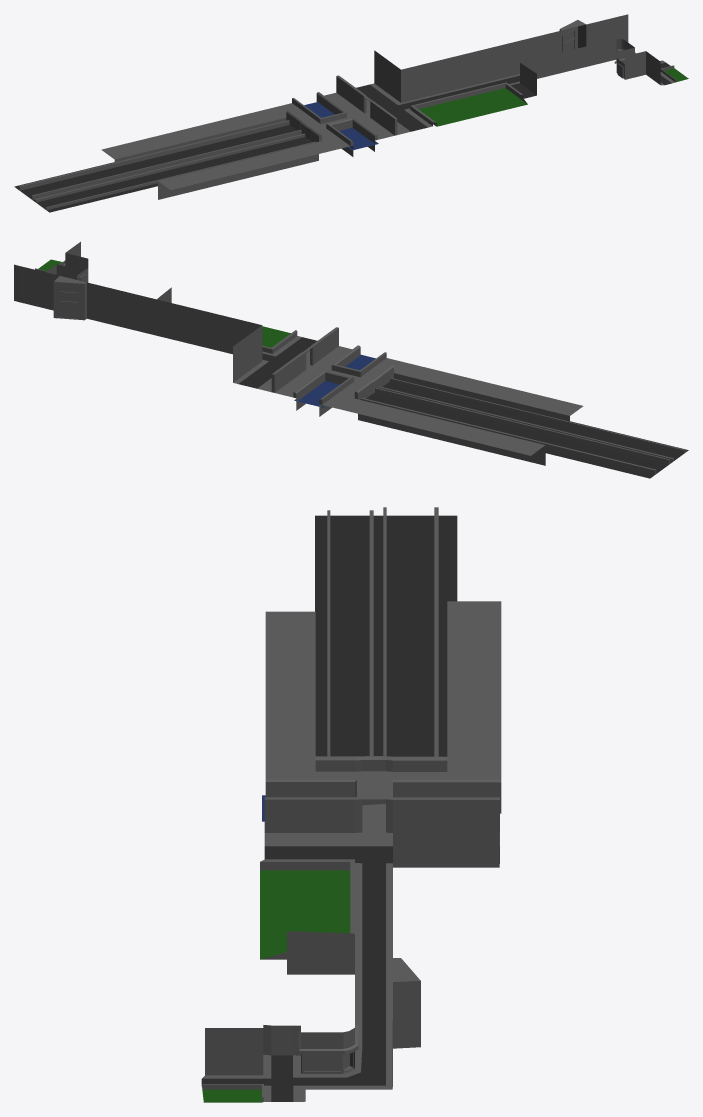
File: level3.fbx
The picture shows the model from 3 angles, top to bottom: view 1: azimuth 30°, elevation 25°; view 2: azimuth 150°, elevation 25°; view 3: azimuth 270°, elevation 25°; orthographic projection. The views are drawn at different scales.
Parts seen in each view (by area): view 1: Level; view 2: Level; view 3: Level.
Part boxes in pixels (x1=…): Level: x1=14, y1=14, x2=688, y2=212; Level: x1=14, y1=241, x2=688, y2=478; Level: x1=201, y1=507, x2=501, y2=1102.
Size of the model in its own units: 224495 by 18305 by 47624.
